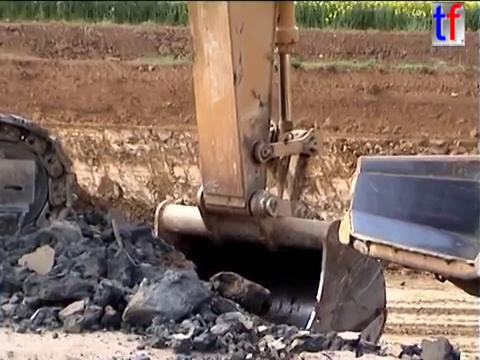excavator: (1, 1, 391, 360)
truck: (334, 149, 480, 303)
